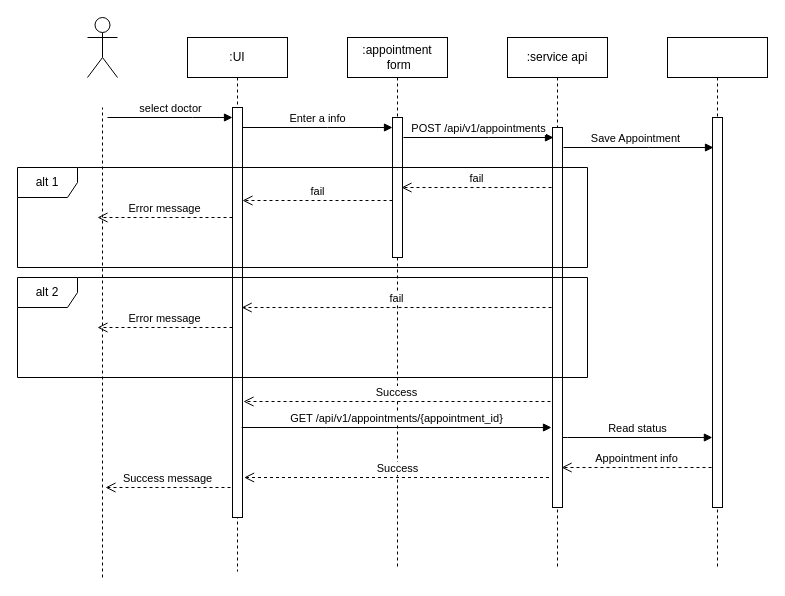
Some shapes in this 785 by 596 pixel diagram are drawn without their labels. Each missing label, with the box of its shape:
:database: (666, 36, 768, 568)
Actor: (86, 16, 118, 78)
